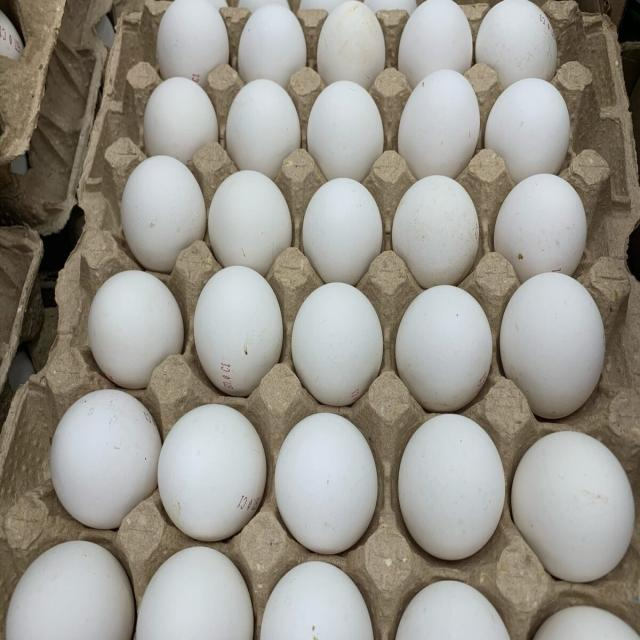egg: (511, 430, 635, 584), (397, 413, 506, 561), (500, 273, 605, 419), (50, 389, 157, 529), (159, 405, 267, 543), (275, 412, 378, 556), (5, 541, 135, 640), (396, 284, 493, 410), (194, 265, 283, 396), (293, 282, 384, 407), (136, 546, 255, 640), (88, 273, 184, 387), (120, 157, 207, 270), (392, 175, 480, 283), (494, 173, 588, 274), (398, 68, 481, 174), (485, 76, 571, 172), (302, 178, 382, 280), (208, 170, 292, 266), (306, 80, 384, 173), (395, 579, 510, 640), (227, 79, 301, 170), (475, 1, 558, 77), (145, 79, 219, 156), (156, 2, 229, 78), (398, 0, 473, 69), (318, 2, 386, 78), (239, 4, 307, 78), (533, 604, 640, 640)
